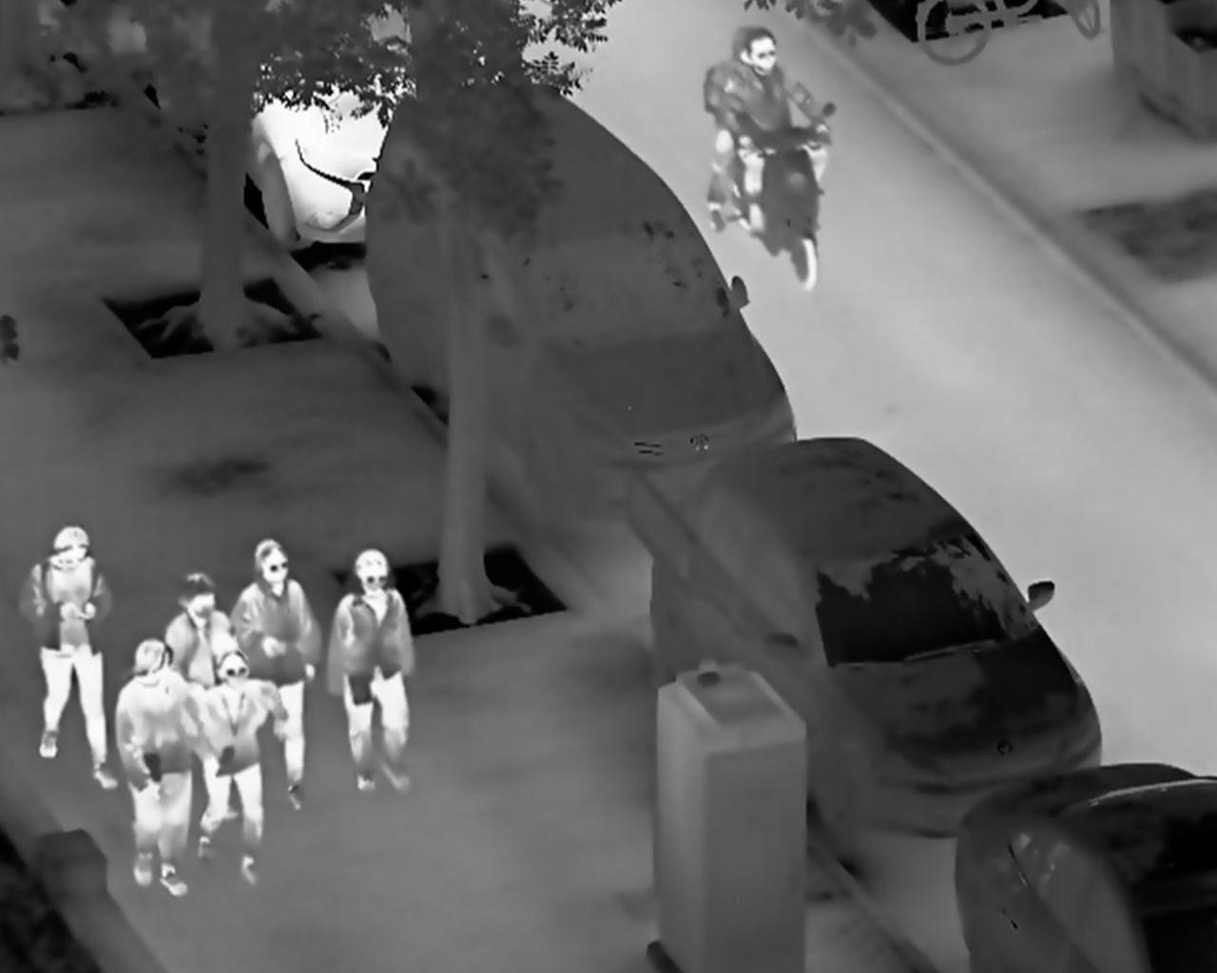person: (18, 524, 120, 788), (108, 638, 204, 900), (229, 538, 321, 811), (322, 549, 419, 796), (194, 650, 293, 889), (724, 25, 832, 237), (151, 565, 241, 685)
